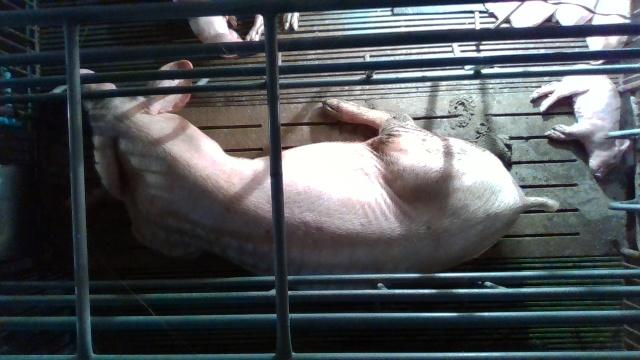piglet: (531, 64, 629, 180)
sow-sit: (79, 58, 558, 288)
